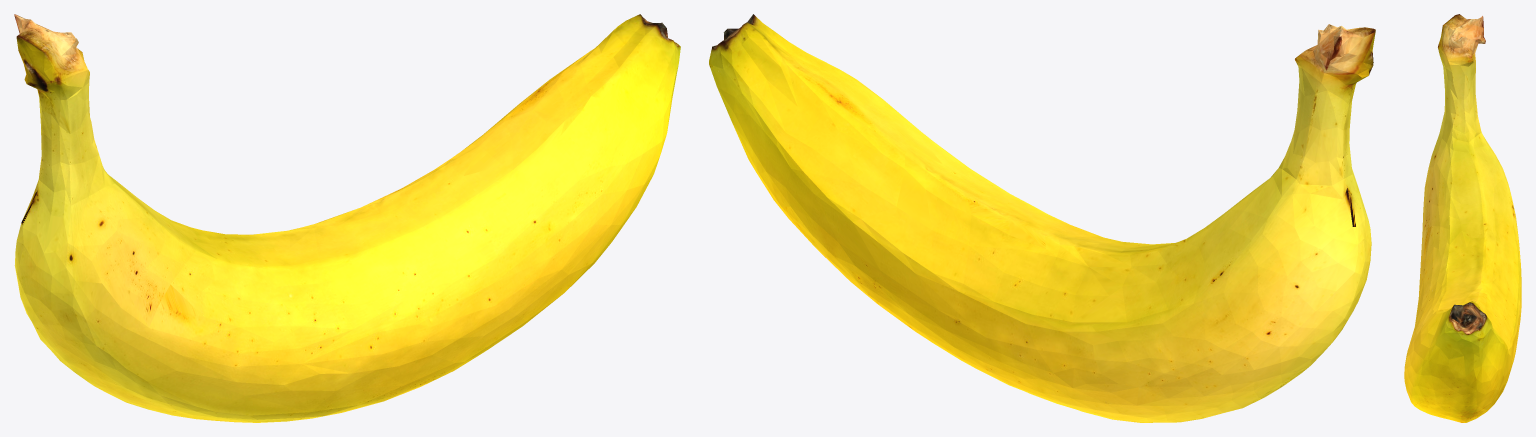
Rendered from banana-v1-transformed.glb.
3 renders of one model, left to right at view 1: azimuth 30°, elevation 25°; view 2: azimuth 150°, elevation 25°; view 3: azimuth 270°, elevation 25°, orthographic. The views are drawn at different scales.
Visible parts, largest first — view 1: banana; view 2: banana; view 3: banana.
Boxes of the visible parts, x1,y1,x2,y2 form: banana: [14, 14, 680, 422]; banana: [709, 14, 1375, 422]; banana: [1404, 14, 1521, 422].
Size of the model in its own units: 6.79 by 4.44 by 1.61.
Materials: 1 (1 with a texture image).
